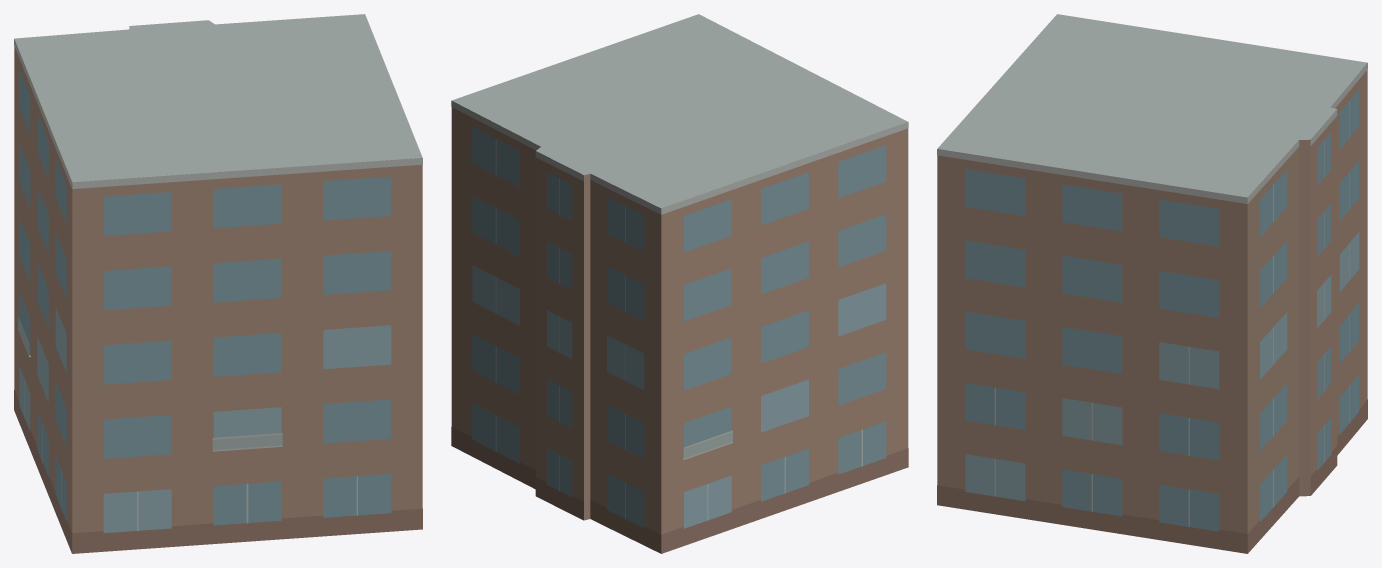
The model's file is survey-upis-32851838.glb.
The picture shows the model from 3 angles, left to right: view 1: azimuth 30°, elevation 25°; view 2: azimuth 150°, elevation 25°; view 3: azimuth 270°, elevation 25°; orthographic projection. The views are drawn at different scales.
Parts seen in each view (by area): view 1: survey-upis-32851838.tmp; view 2: survey-upis-32851838.tmp; view 3: survey-upis-32851838.tmp.
Part boxes in pixels (bbox=[...]): survey-upis-32851838.tmp: bbox=[14, 14, 422, 553]; survey-upis-32851838.tmp: bbox=[451, 14, 908, 553]; survey-upis-32851838.tmp: bbox=[937, 14, 1367, 553].
Bounding box in the file's own units: 14.76 × 13.35 × 14.63.
